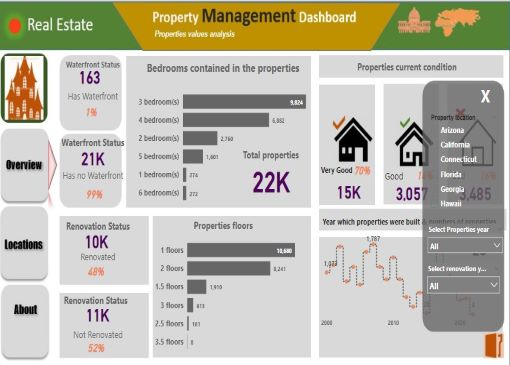

What the dashboard file says about the page in this screenshot:
{"tool":"powerbi","page":{"name":"Over View","canvas":[1280,720],"ordinal":0},"visuals":[{"type":"textbox","box":[345.5,114.2,434.9,45.4],"z":0},{"type":"barChart","fields":{"Category":["Dim_Bedrooms.Bedrooms"],"Y":["Measures Table.Total properties"]},"box":[345.5,159.7,434.9,254.6],"z":1000},{"type":"textbox","box":[590.5,287.7,189.9,48.2],"z":2000},{"type":"card","fields":{"Values":["Measures Table.Total properties"]},"box":[609.7,311.1,145.9,82.6],"z":3000},{"type":"textbox","box":[143.1,262.9,189.9,48.2],"z":4000},{"type":"textbox","box":[143.1,112.9,189.9,48.2],"z":5000},{"type":"card","fields":{"Values":["Measures Table.Waterfront Yes"]},"box":[166.5,128,125.2,44],"z":6000},{"type":"card","fields":{"Values":["Measures Table.Waterfront 2 yes"]},"box":[184.4,286.3,107.4,49.5],"z":7000},{"type":"textbox","box":[143.1,172,189.9,48.2],"z":8000},{"type":"textbox","box":[150,327.6,176.2,48.2],"z":9000},{"type":"card","fields":{"Values":["Measures Table.% Waterfront Yes"]},"box":[169.7,199.9,125.2,44],"z":10000},{"type":"card","fields":{"Values":["Measures Table.% Waterfront No"]},"box":[187.5,358.2,107.4,49.5],"z":11000},{"type":"textbox","box":[155.5,426.7,189.9,48.2],"z":12000},{"type":"textbox","box":[150,572.6,189.9,48.2],"z":13000},{"type":"textbox","box":[155.5,487.2,189.9,48.2],"z":14000},{"type":"card","fields":{"Values":["Measures Table.Renovated"]},"box":[184.4,451.4,125.2,44],"z":15000},{"type":"card","fields":{"Values":["Measures Table.Not Renovated"]},"box":[187.2,596,125.2,44],"z":16000},{"type":"textbox","box":[155.5,640,189.9,48.2],"z":17000},{"type":"card","fields":{"Values":["Measures Table.% Renovated"]},"box":[191.3,510.6,107.4,49.5],"z":18000},{"type":"card","fields":{"Values":["Measures Table.% Not Renovated"]},"box":[191.3,663.4,107.4,44],"z":19000},{"type":"barChart","fields":{"Y":["Measures Table.Total properties"],"Category":["Dim_Floors.floor"]},"box":[386.8,451.4,393.6,256],"z":20000},{"type":"textbox","box":[468,425.3,189.9,48.2],"z":21000},{"type":"textbox","box":[832.7,114.2,379.9,35.8],"z":22000},{"type":"textbox","box":[802.4,319.3,189.9,48.2],"z":23000},{"type":"textbox","box":[963.4,328.9,167.9,38.5],"z":24000},{"type":"textbox","box":[1131.4,327.6,134.9,39.9],"z":25000},{"type":"card","fields":{"Values":["Measures Table.% Very Good"]},"box":[878.1,312.4,63.3,48.2],"z":26000},{"type":"card","fields":{"Values":["Measures Table.Very Good"]},"box":[814.8,353.7,125.2,44],"z":27000},{"type":"card","fields":{"Values":["Measures Table.Good"]},"box":[973.1,357.8,125.2,44],"z":28000},{"type":"card","fields":{"Values":["Measures Table.Bad"]},"box":[1131.4,357.8,125.2,44],"z":29000},{"type":"card","fields":{"Values":["Measures Table.% Good"]},"box":[1036.4,323.4,63.3,48.2],"z":30000},{"type":"card","fields":{"Values":["Measures Table.% Bad"]},"box":[1193.3,323.4,63.3,48.2],"z":31000},{"type":"textbox","box":[795.5,421.2,466.6,44],"z":32000},{"type":"lineChart","fields":{"Y":["Measures Table.Total properties"],"Category":["Consolidated_table.yr_built"]},"box":[802.4,451.4,454.2,202.3],"z":33000},{"type":"card","fields":{"Values":["Measures Table.Properties years"]},"box":[1141,465.2,125.2,44],"z":34000},{"type":"actionButton","box":[1212.6,653.8,53.7,53.7],"z":35000},{"type":"actionButton","box":[0,408.6,127.1,151.4],"z":37000},{"type":"actionButton","box":[0,556,128,151.4],"z":37001}]}

Visuals, with their boxes on the page's 1280x720 design canvas (x1, y1, x2, y2). These are canvas units, not pixel positions in the 510x365 screenshot, which may show the page scaled, cropped or inside an application window:
textbox: 346, 114, 780, 160
barChart - Dim_Bedrooms.Bedrooms x Measures Table.Total properties: 346, 160, 780, 414
textbox: 590, 288, 780, 336
card - Measures Table.Total properties: 610, 311, 756, 394
textbox: 143, 263, 333, 311
textbox: 143, 113, 333, 161
card - Measures Table.Waterfront Yes: 166, 128, 292, 172
card - Measures Table.Waterfront 2 yes: 184, 286, 292, 336
textbox: 143, 172, 333, 220
textbox: 150, 328, 326, 376
card - Measures Table.% Waterfront Yes: 170, 200, 295, 244
card - Measures Table.% Waterfront No: 188, 358, 295, 408
textbox: 156, 427, 345, 475
textbox: 150, 573, 340, 621
textbox: 156, 487, 345, 535
card - Measures Table.Renovated: 184, 451, 310, 495
card - Measures Table.Not Renovated: 187, 596, 312, 640
textbox: 156, 640, 345, 688
card - Measures Table.% Renovated: 191, 511, 299, 560
card - Measures Table.% Not Renovated: 191, 663, 299, 707
barChart - Measures Table.Total properties x Dim_Floors.floor: 387, 451, 780, 707
textbox: 468, 425, 658, 474
textbox: 833, 114, 1213, 150
textbox: 802, 319, 992, 368
textbox: 963, 329, 1131, 367
textbox: 1131, 328, 1266, 368
card - Measures Table.% Very Good: 878, 312, 941, 361
card - Measures Table.Very Good: 815, 354, 940, 398
card - Measures Table.Good: 973, 358, 1098, 402
card - Measures Table.Bad: 1131, 358, 1257, 402
card - Measures Table.% Good: 1036, 323, 1100, 372
card - Measures Table.% Bad: 1193, 323, 1257, 372
textbox: 796, 421, 1262, 465
lineChart - Measures Table.Total properties x Consolidated_table.yr_built: 802, 451, 1257, 654
card - Measures Table.Properties years: 1141, 465, 1266, 509
actionButton: 1213, 654, 1266, 708
actionButton: 0, 409, 127, 560
actionButton: 0, 556, 128, 707
